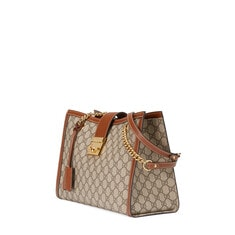Gucci: (57, 106, 184, 219), (86, 111, 119, 160)
